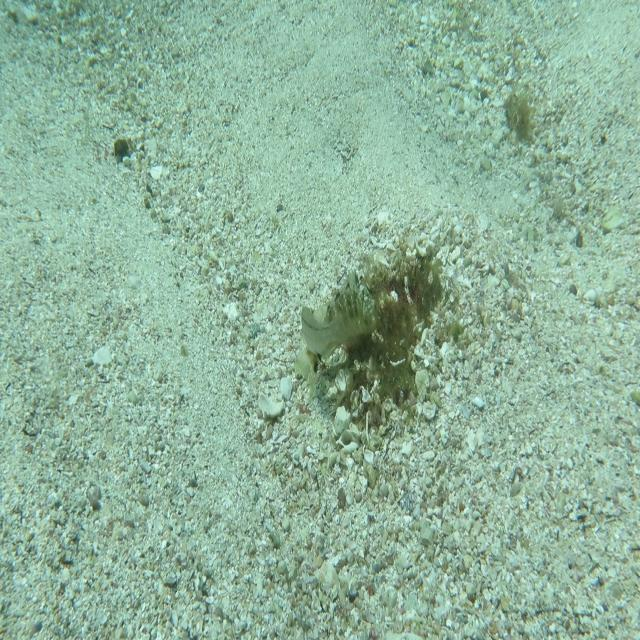DAN_CIRC: (293, 262, 380, 392)
female: (298, 304, 355, 370)
nest: (324, 236, 448, 432)
